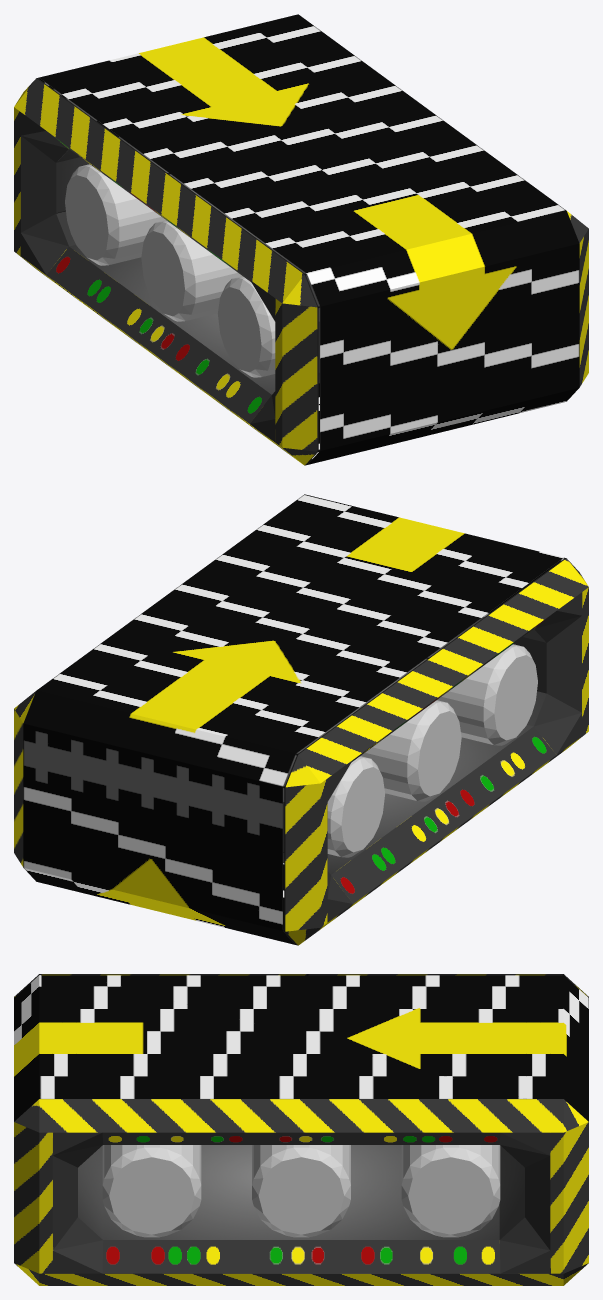
Rendered from conveyor.dae.
3 renders of one model, top to bottom at view 1: azimuth 30°, elevation 25°; view 2: azimuth 150°, elevation 25°; view 3: azimuth 270°, elevation 25°, orthographic. The views are drawn at different scales.
Visible parts, largest first — view 1: Track, Wheel.001, Wheel, Wheel.002; view 2: Track, Wheel.001, Wheel.002, Wheel; view 3: Track, Wheel, Wheel.002, Wheel.001.
Part boxes in pixels (x1=…): Track: x1=14, y1=14, x2=588, y2=465; Wheel.001: x1=141, y1=220, x2=242, y2=321; Wheel: x1=65, y1=164, x2=165, y2=265; Wheel.002: x1=217, y1=276, x2=275, y2=377; Track: x1=14, y1=494, x2=588, y2=945; Wheel.001: x1=360, y1=700, x2=461, y2=801; Wheel.002: x1=437, y1=644, x2=537, y2=745; Wheel: x1=327, y1=756, x2=385, y2=857; Track: x1=14, y1=974, x2=588, y2=1285; Wheel: x1=401, y1=1145, x2=500, y2=1237; Wheel.002: x1=102, y1=1145, x2=201, y2=1237; Wheel.001: x1=252, y1=1145, x2=350, y2=1237.
Size of the model in its own units: 1.2 by 2 by 0.7172.
2 materials, 1 textured.
